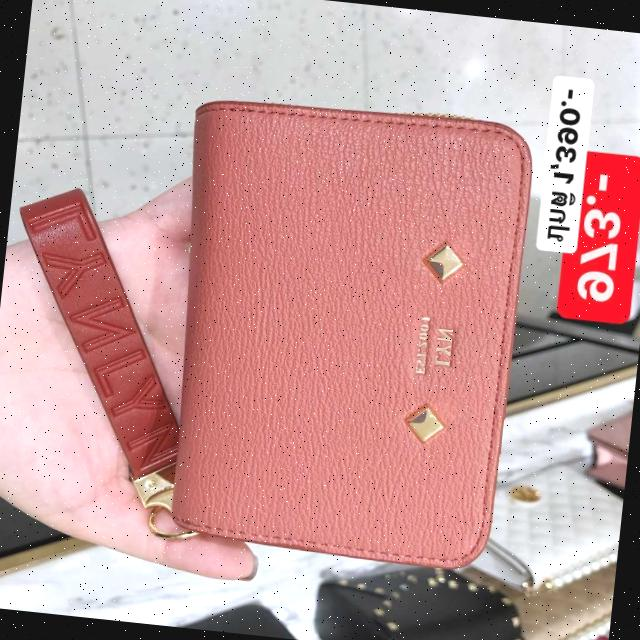handbag: (150, 86, 547, 572)
